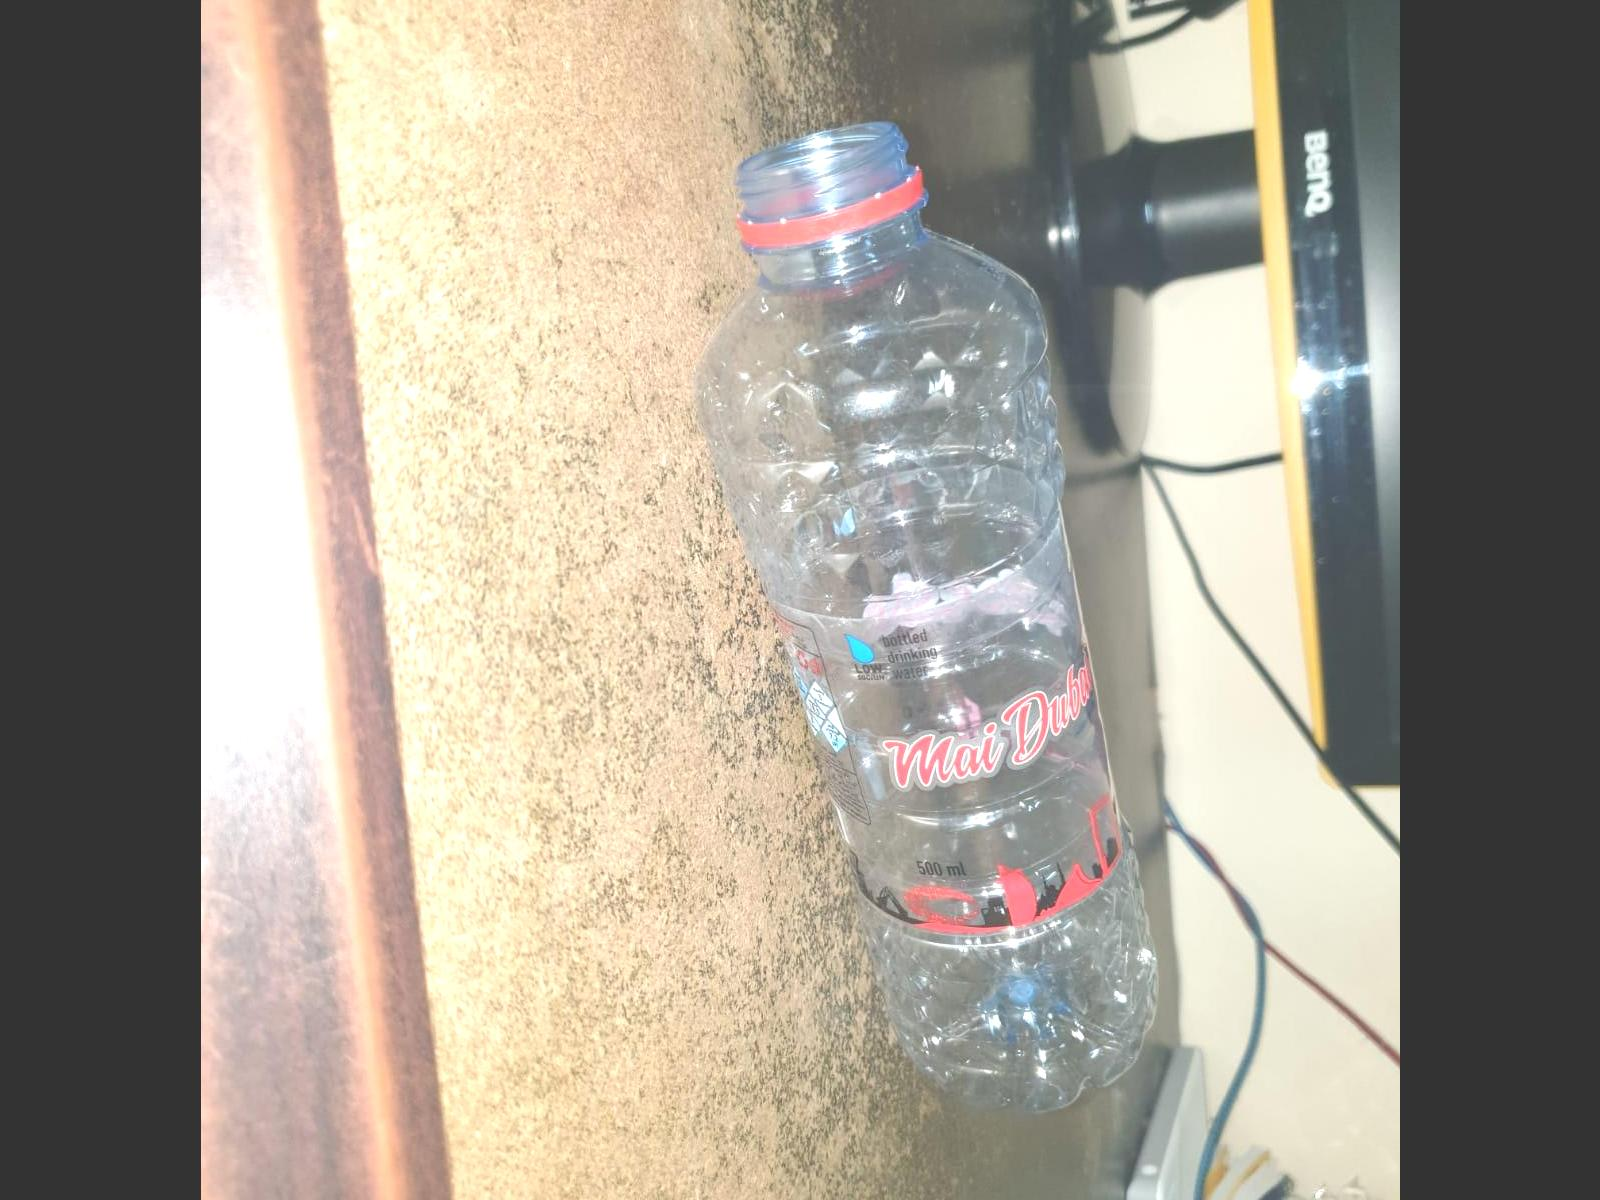bottle: (690, 108, 1164, 1127)
